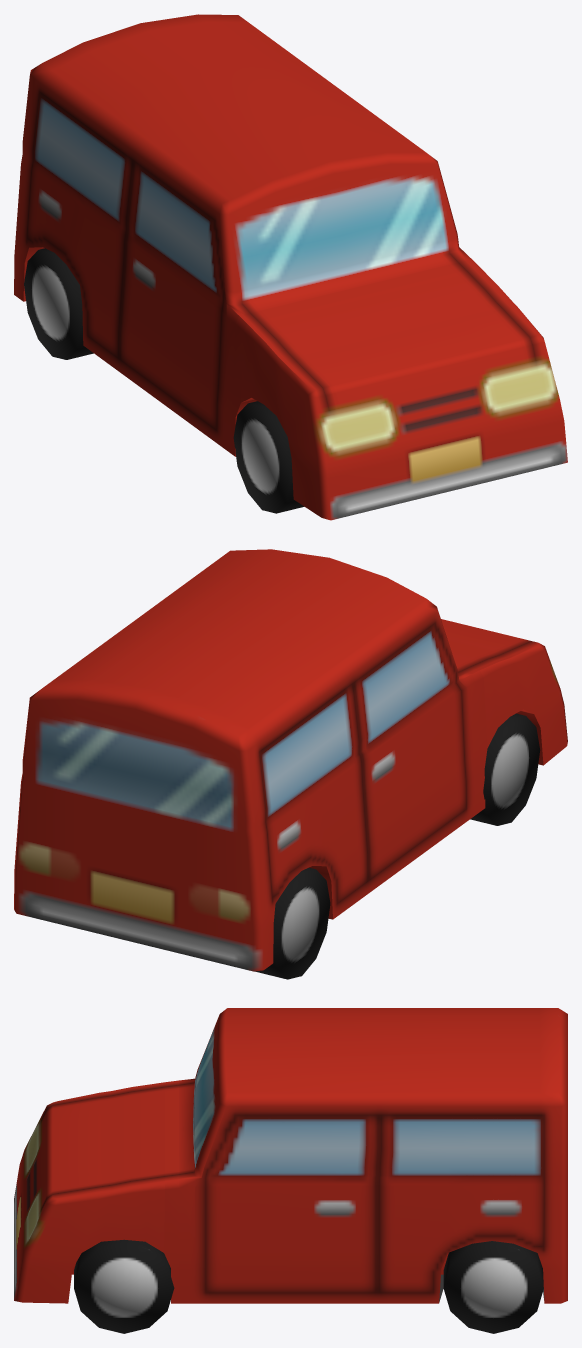
Rendered from car.fbx.
3 views of the same model, one above another, from view 1: azimuth 30°, elevation 25°; view 2: azimuth 150°, elevation 25°; view 3: azimuth 270°, elevation 25° (orthographic). The views are drawn at different scales.
Parts seen in each view (by area): view 1: polySurface7; view 2: polySurface7; view 3: polySurface7.
Boxes of the visible parts, left/top/right/bottom form: polySurface7: left=14, top=14, right=567, bottom=520; polySurface7: left=14, top=549, right=567, bottom=979; polySurface7: left=14, top=1008, right=567, bottom=1333.
Bounding box in the file's own units: 5950 × 6253 × 12898.
